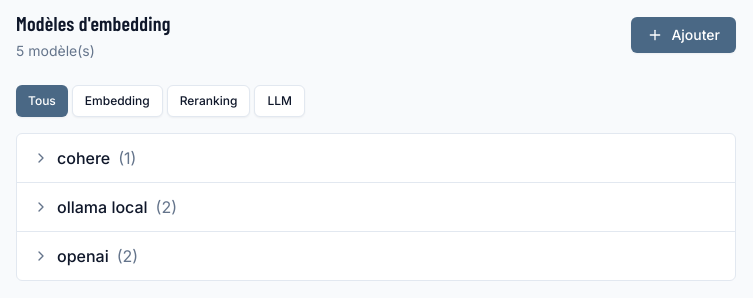
Scenario: ModelsPage › filtre par type : Reranking ne garde que les modèles kind=rerank
Click the button "Reranking". click: (209, 101)
box: [167,85,250,117]
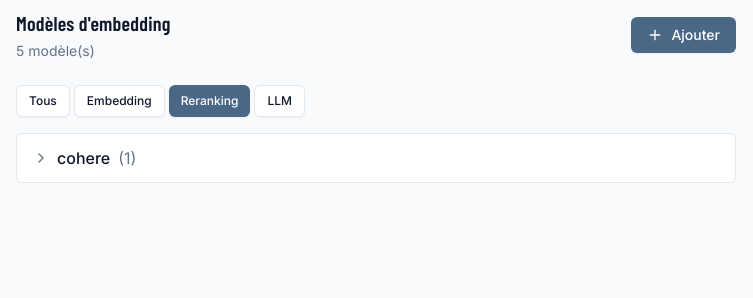
Click the button "cohere (1)". click: (84, 158)
box: [17,134,735,182]
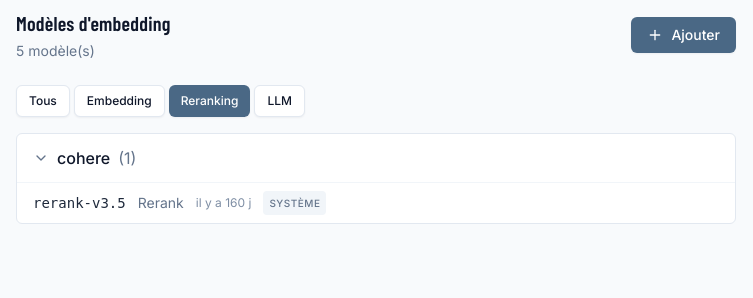
Expected: the text "rerank-v3.5" is shown, [33,193,126,213]
